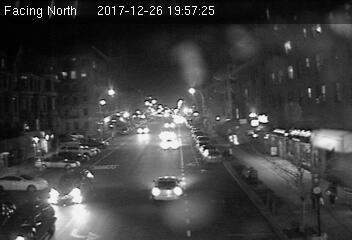car: (49, 169, 97, 207), (151, 176, 183, 202), (159, 138, 181, 152), (203, 149, 221, 163), (133, 126, 151, 133)
